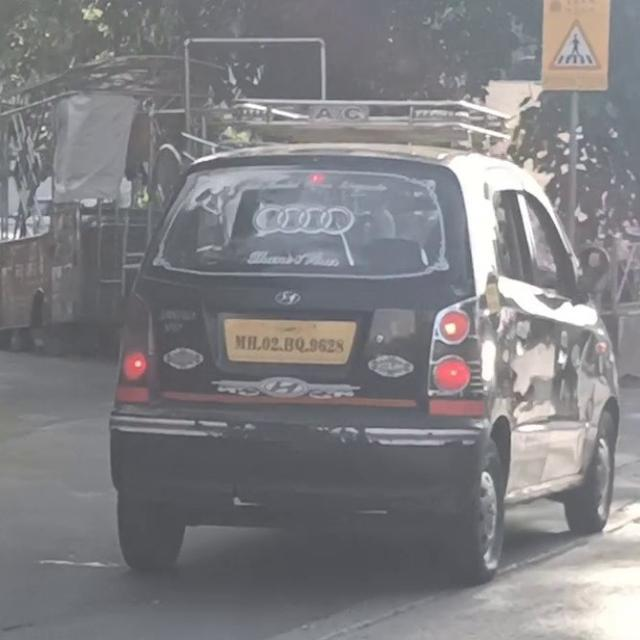number_plate: (226, 318, 356, 368)
